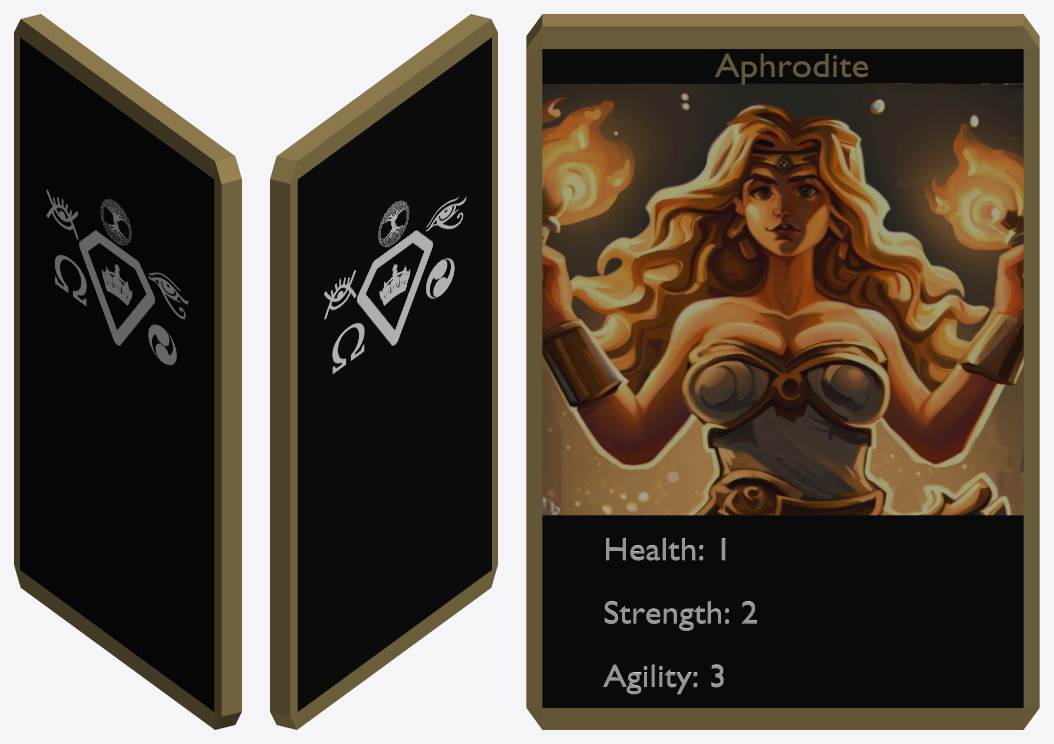
The model's file is Aphrodite.fbx.
The picture shows the model from 3 angles, left to right: view 1: azimuth 30°, elevation 25°; view 2: azimuth 150°, elevation 25°; view 3: azimuth 270°, elevation 25°; orthographic projection. The views are drawn at different scales.
Visible parts, largest first — view 1: Aphrodite; view 2: Aphrodite; view 3: Aphrodite.
Boxes of the visible parts, x1,y1,x2,y2 form: Aphrodite: (14, 14, 241, 729); Aphrodite: (270, 14, 497, 729); Aphrodite: (526, 14, 1039, 729).
Bounding box in the file's own units: 20.45 × 482 × 319.
5 materials, 2 textured.
